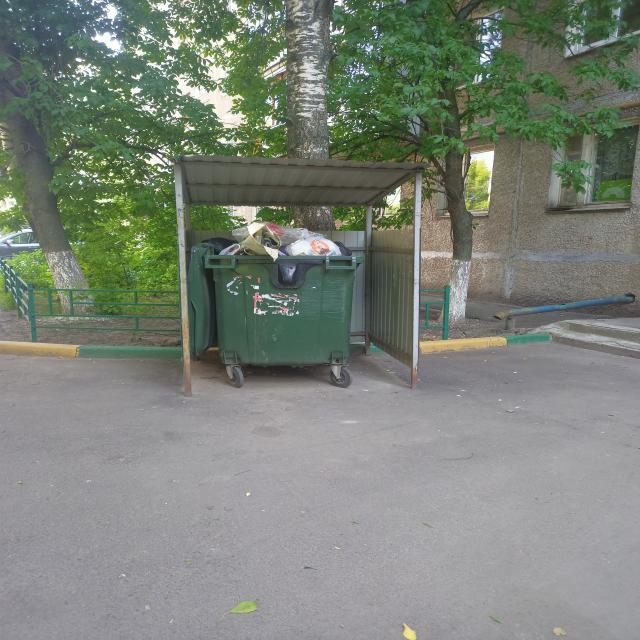bin: (189, 252, 370, 391)
plastic: (219, 219, 354, 253)
